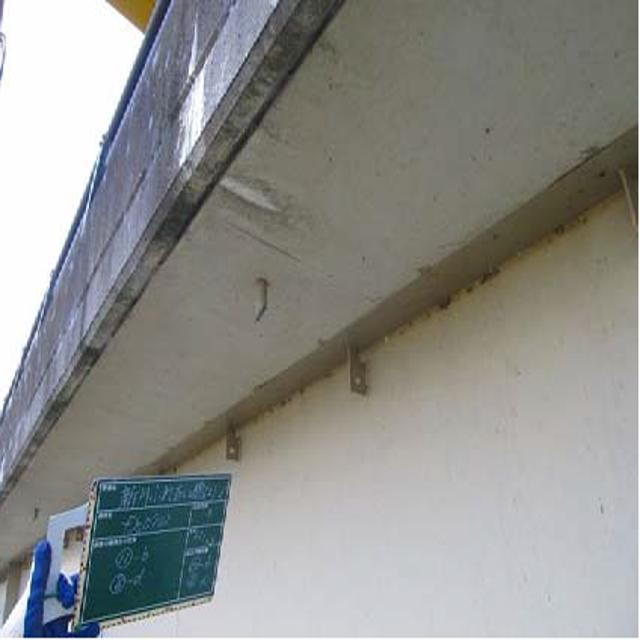freelime: (170, 36, 273, 220)
